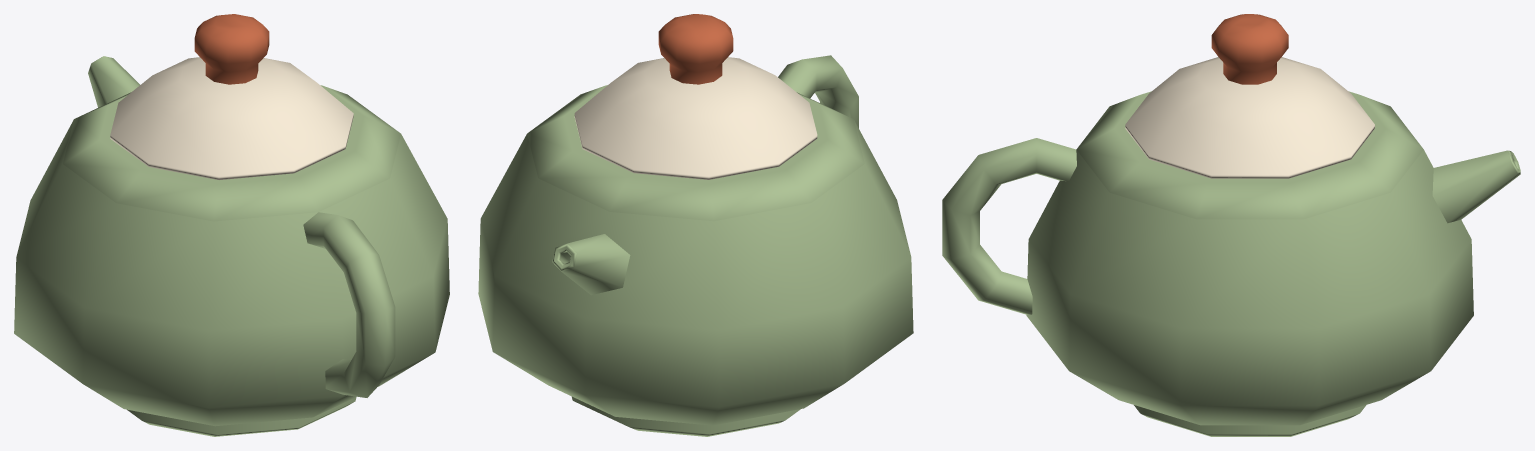
The model's file is MD_CozyShops_Teapot.fbx.
3 views of the same model, side by side, from view 1: azimuth 30°, elevation 25°; view 2: azimuth 150°, elevation 25°; view 3: azimuth 270°, elevation 25° (orthographic).
Parts seen in each view (by area): view 1: MD_CozyShops_Teapot; view 2: MD_CozyShops_Teapot; view 3: MD_CozyShops_Teapot.
Part boxes in pixels (x1=…): MD_CozyShops_Teapot: x1=14, y1=14, x2=449, y2=436; MD_CozyShops_Teapot: x1=478, y1=14, x2=913, y2=436; MD_CozyShops_Teapot: x1=942, y1=14, x2=1520, y2=436.
Size of the model in its own units: 0.1501 by 0.1419 by 0.204.
